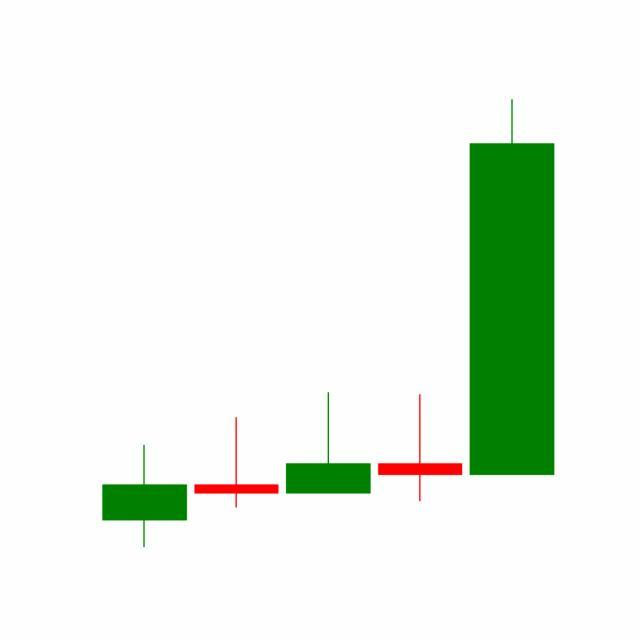Spinning Top: (374, 394, 468, 504)
